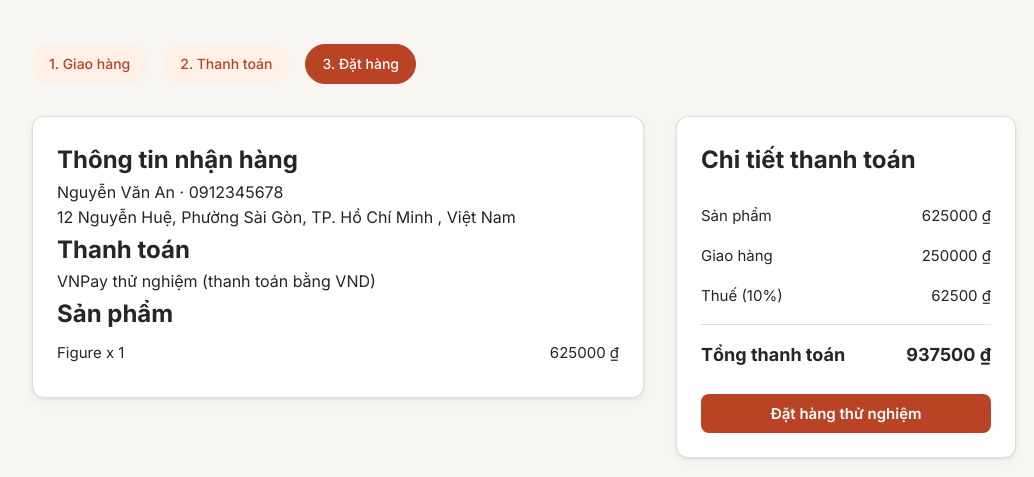
Test case: guest order stores private access before clearing the cart and opening its receipt
Click the button "Đặt hàng thử nghiệm".
click(846, 413)  # box [701,394,991,433]
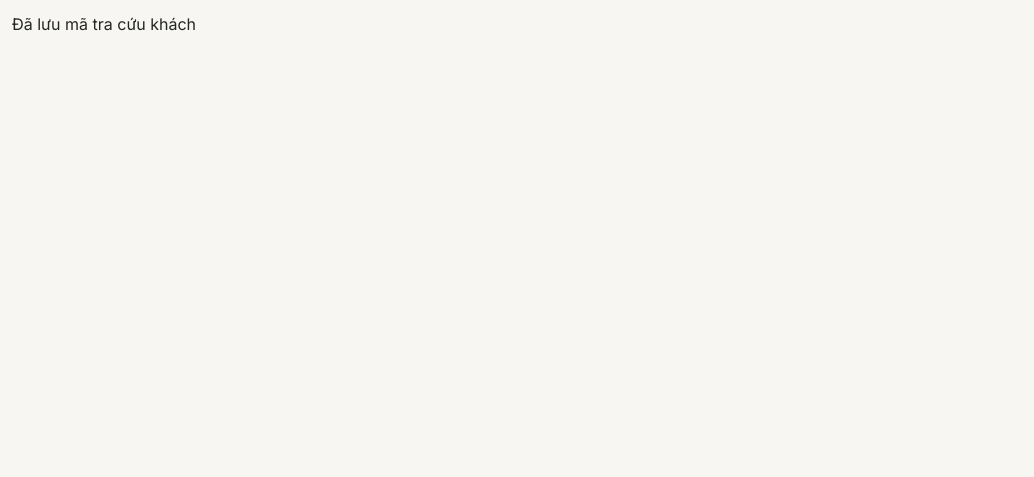
Now the text "Đã lưu mã tra cứu khách" is shown, box [12,14,196,34]
